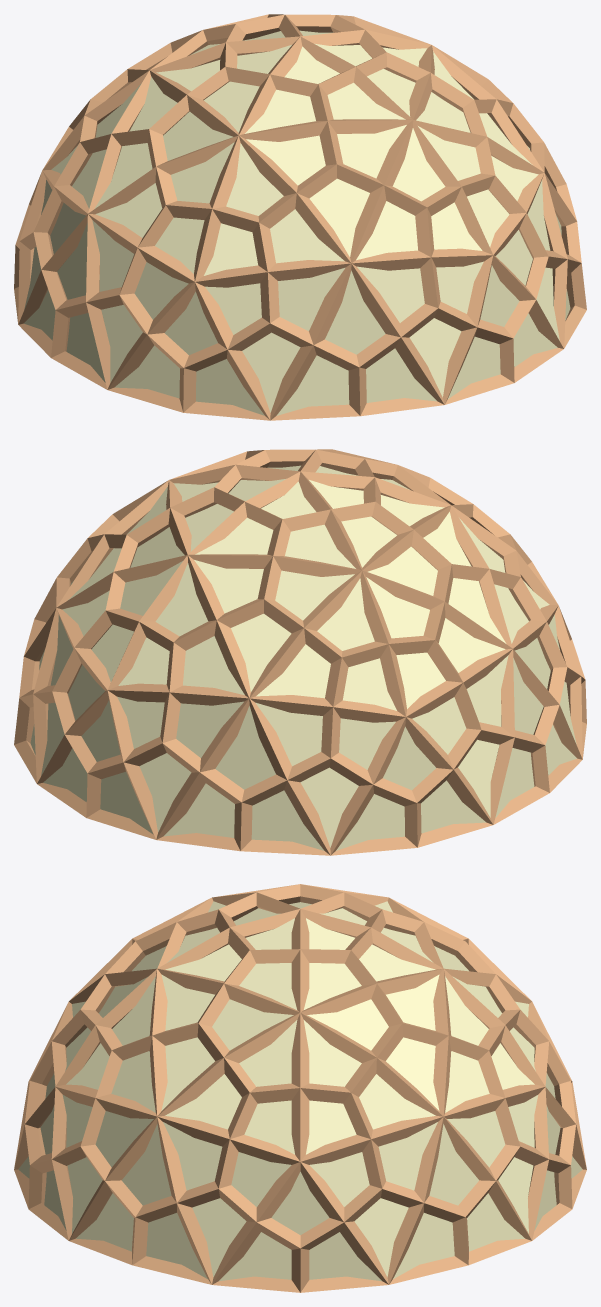
Rendered from ABuilding.fbx.
3 views of the same model, one above another, from view 1: azimuth 30°, elevation 25°; view 2: azimuth 150°, elevation 25°; view 3: azimuth 270°, elevation 25° (orthographic).
Visible parts, largest first — view 1: Icosphere, Icosphere.001; view 2: Icosphere, Icosphere.001; view 3: Icosphere, Icosphere.001.
Boxes of the visible parts, bbox=[...] form: Icosphere: bbox=[14, 14, 586, 420]; Icosphere.001: bbox=[24, 30, 570, 415]; Icosphere: bbox=[14, 449, 586, 855]; Icosphere.001: bbox=[30, 465, 576, 850]; Icosphere: bbox=[14, 884, 586, 1292]; Icosphere.001: bbox=[18, 901, 582, 1281].
Size of the model in its own units: 381 by 194 by 382.
